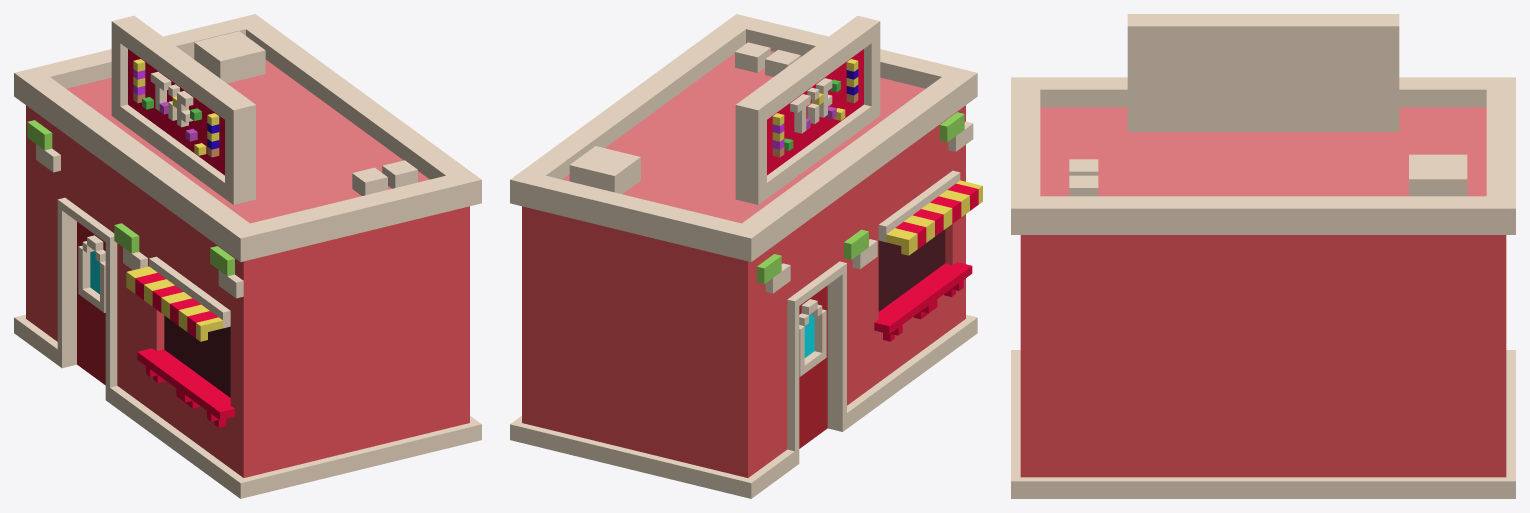
The model's file is CandyShop.obj.
3 renders of one model, left to right at view 1: azimuth 30°, elevation 25°; view 2: azimuth 150°, elevation 25°; view 3: azimuth 270°, elevation 25°, orthographic. The views are drawn at different scales.
Bounding box in the file's own units: 3.5 × 4.3 × 5.2.
Materials: 1 (1 with a texture image).
